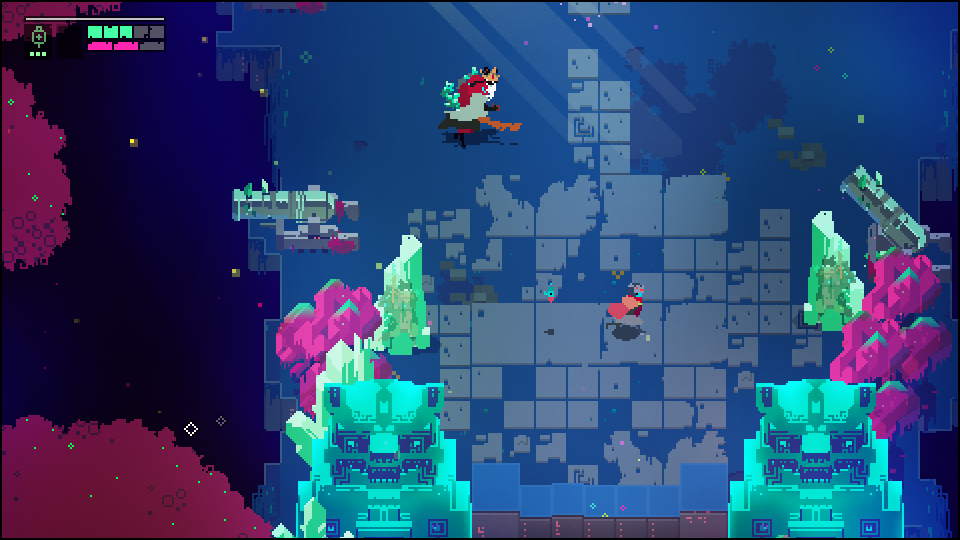hanged_man: (440, 68, 496, 133)
player: (611, 285, 644, 329)
